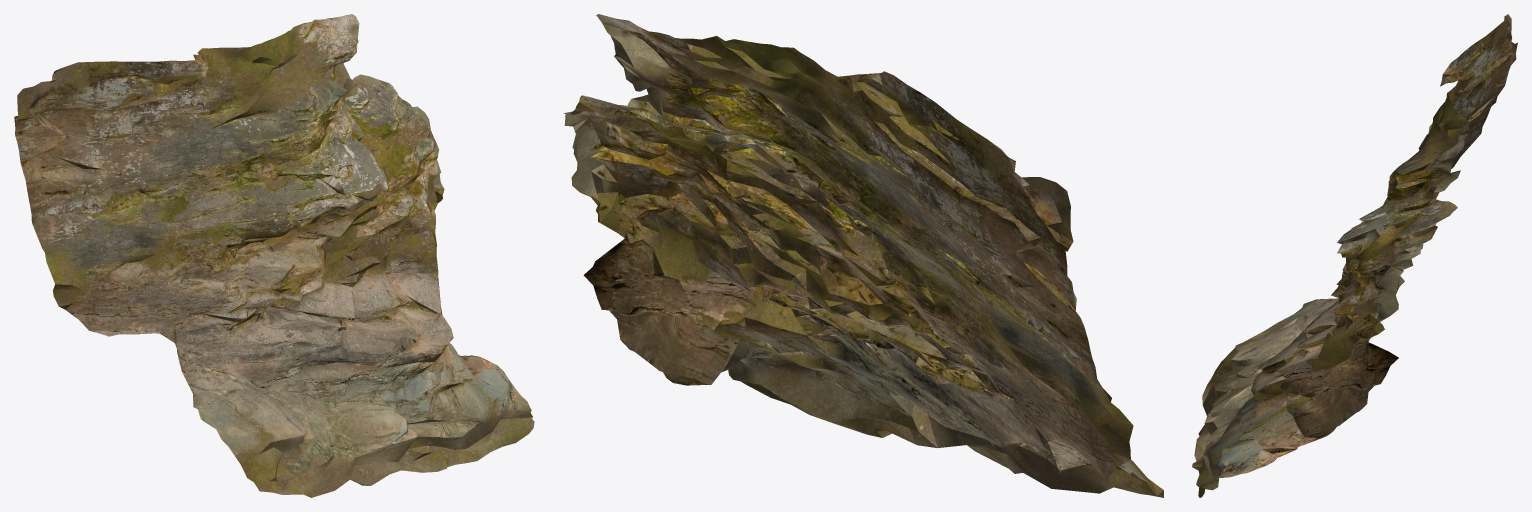
Rendered from rock_face_b.glb.
3 renders of one model, left to right at view 1: azimuth 30°, elevation 25°; view 2: azimuth 150°, elevation 25°; view 3: azimuth 270°, elevation 25°, orthographic. The views are drawn at different scales.
Parts seen in each view (by area): view 1: rock_face_b; view 2: rock_face_b; view 3: rock_face_b.
Boxes of the visible parts, bbox=[...] form: rock_face_b: bbox=[14, 14, 534, 497]; rock_face_b: bbox=[563, 14, 1163, 497]; rock_face_b: bbox=[1192, 14, 1517, 497].
Bounding box in the file's own units: 2.71 × 2.48 × 2.13.
Materials: 1 (1 with a texture image).
